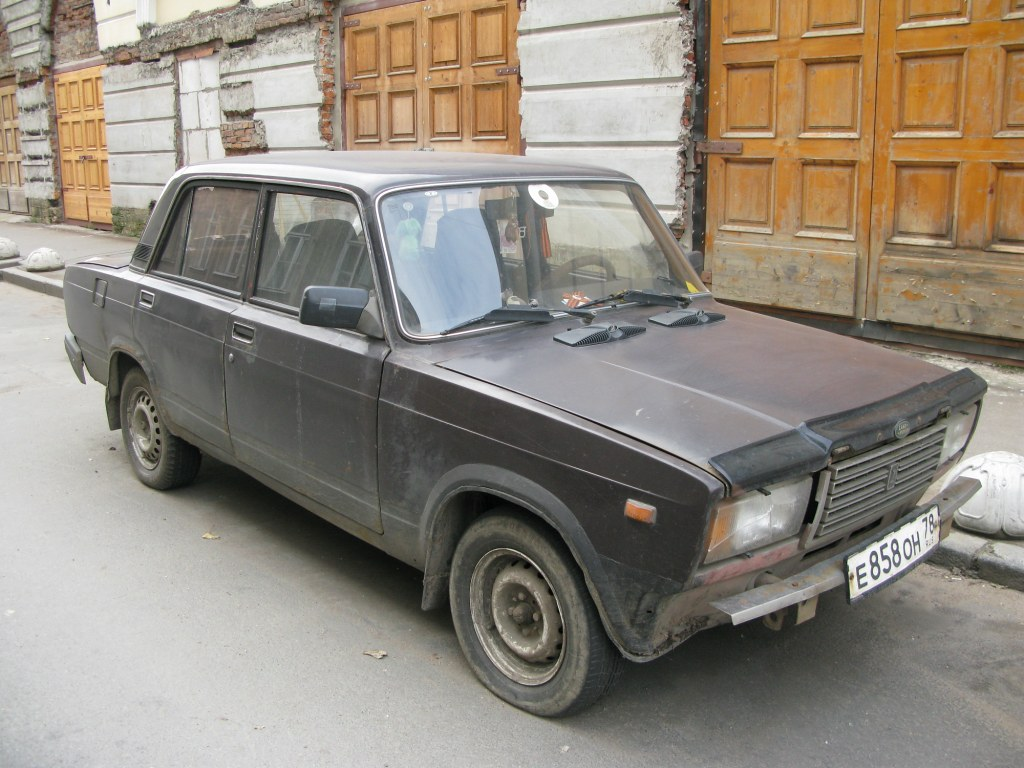car: (643, 367, 989, 664)
plate: (844, 501, 940, 603)
